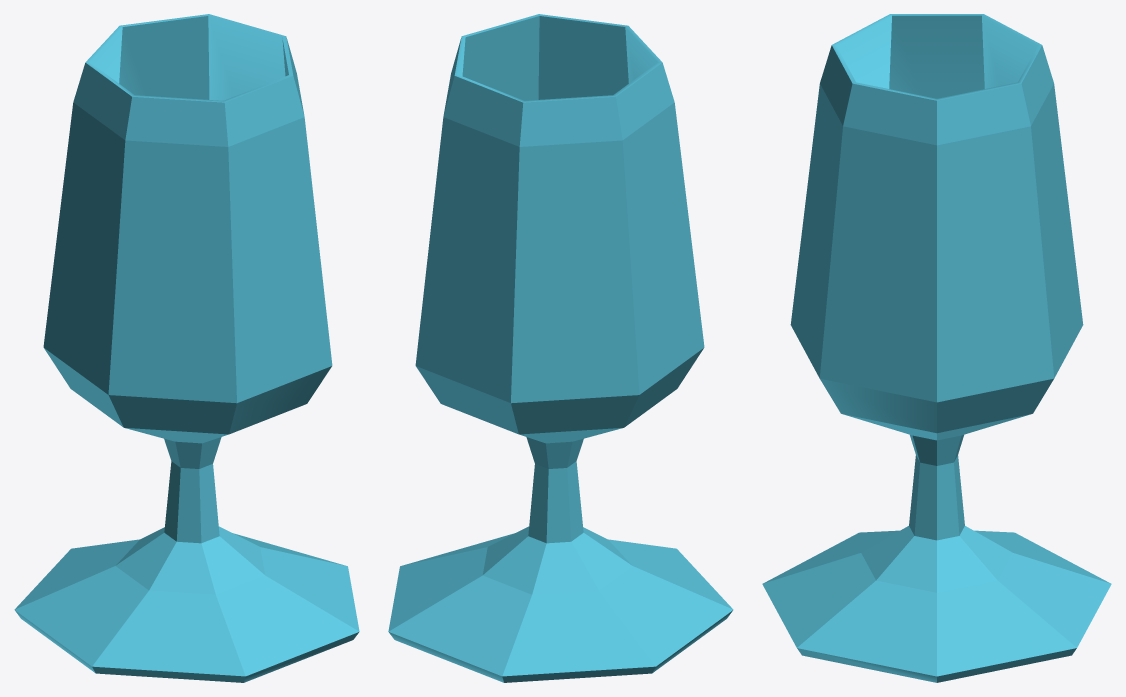
File: obj_glass_2.FBX
The picture shows the model from 3 angles, left to right: view 1: azimuth 30°, elevation 25°; view 2: azimuth 150°, elevation 25°; view 3: azimuth 270°, elevation 25°; orthographic projection.
Parts seen in each view (by area): view 1: Object002; view 2: Object002; view 3: Object002.
Boxes of the visible parts, left/top/right/bottom form: Object002: left=14, top=14, right=359, bottom=682; Object002: left=388, top=14, right=733, bottom=682; Object002: left=762, top=14, right=1111, bottom=682.
Size of the model in its own units: 22.34 by 40.14 by 22.92.
